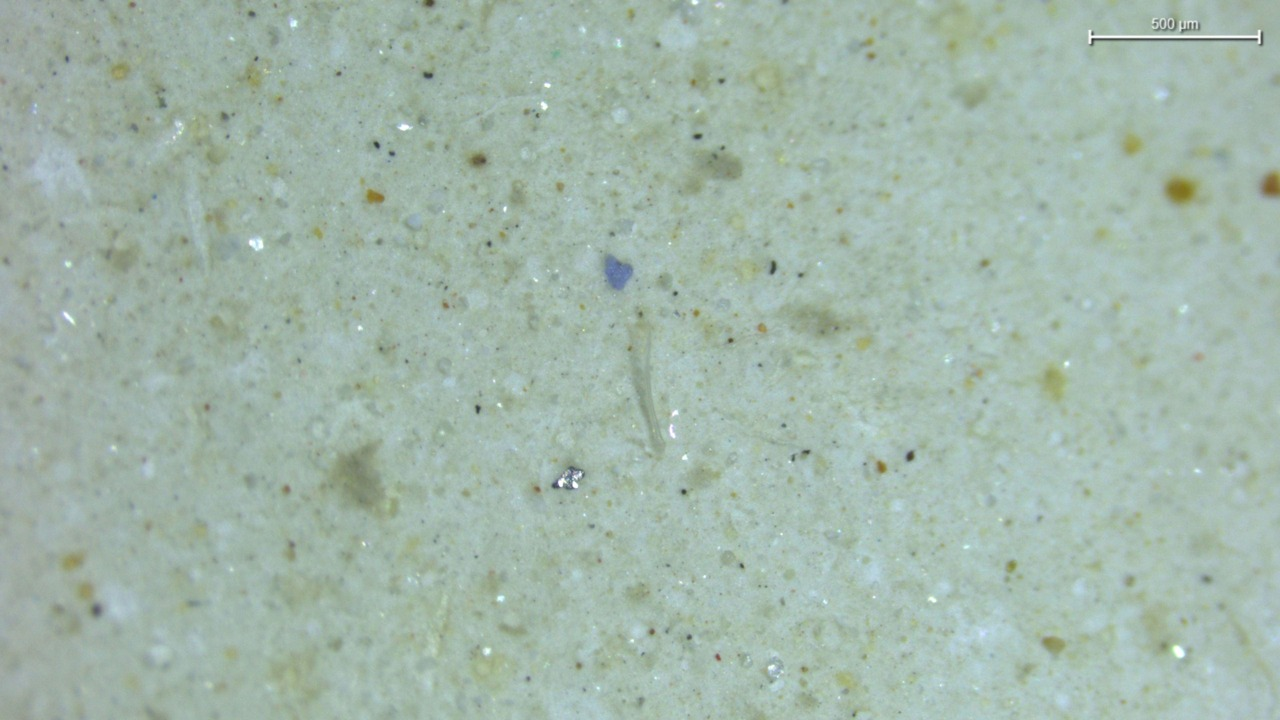microplastic_fragment: (603, 254, 633, 290), (552, 466, 584, 489), (406, 214, 421, 229)
